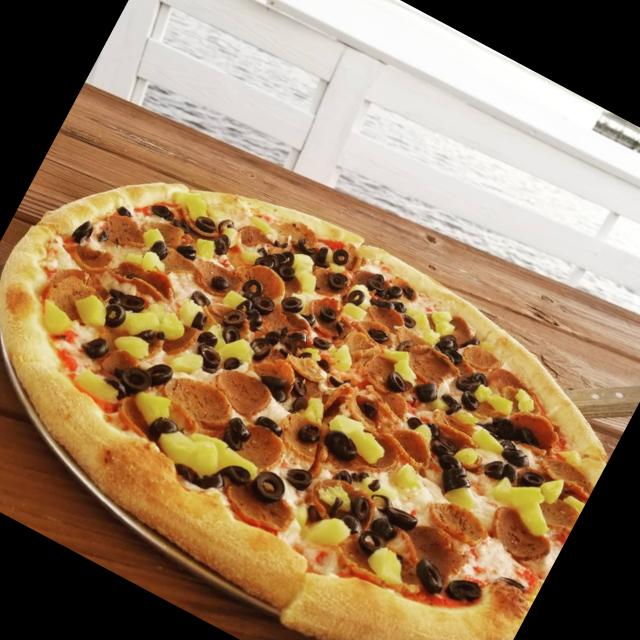black_olives: (352, 266, 436, 338), (413, 428, 487, 502), (443, 365, 498, 424), (482, 405, 544, 455), (424, 324, 476, 376), (252, 238, 306, 286), (213, 408, 261, 461), (244, 462, 293, 511), (263, 318, 311, 366), (102, 281, 152, 326), (316, 422, 364, 466), (439, 566, 484, 611), (254, 367, 297, 410), (377, 494, 422, 535), (408, 554, 451, 596), (510, 458, 552, 500), (479, 450, 522, 491), (378, 362, 418, 404), (137, 357, 176, 395), (238, 330, 276, 369), (114, 359, 150, 396), (408, 368, 444, 405), (76, 330, 112, 365), (190, 340, 226, 374), (352, 524, 387, 558), (291, 411, 326, 445), (99, 298, 132, 334), (366, 512, 403, 544), (188, 211, 222, 244), (286, 460, 318, 494), (144, 410, 176, 444), (194, 462, 226, 496), (346, 488, 377, 520), (321, 266, 353, 296), (149, 197, 180, 227), (248, 292, 278, 322), (219, 458, 250, 486), (194, 322, 221, 352), (277, 290, 307, 317), (238, 276, 266, 304), (67, 217, 93, 245), (148, 236, 174, 263), (186, 290, 212, 316), (316, 300, 342, 326), (328, 243, 353, 270), (220, 304, 246, 329), (364, 318, 390, 342), (308, 241, 332, 265), (187, 309, 210, 334), (208, 268, 231, 292), (310, 330, 333, 353), (356, 400, 376, 420)
pepperoni: (326, 322, 442, 418), (276, 348, 376, 437), (387, 510, 478, 597), (210, 464, 306, 546), (295, 464, 385, 550), (110, 379, 203, 461), (152, 361, 242, 443), (474, 496, 562, 576), (38, 260, 116, 335), (421, 490, 504, 558), (477, 358, 552, 424), (202, 360, 276, 426), (226, 254, 298, 319), (527, 444, 600, 501), (232, 417, 296, 482), (348, 262, 417, 322), (108, 256, 176, 310), (185, 250, 248, 308), (370, 416, 434, 472), (316, 235, 374, 294), (504, 399, 564, 454), (95, 202, 156, 256), (264, 206, 320, 262), (93, 339, 150, 394), (451, 333, 507, 382), (302, 288, 354, 340)
pizza: (0, 181, 607, 640)
